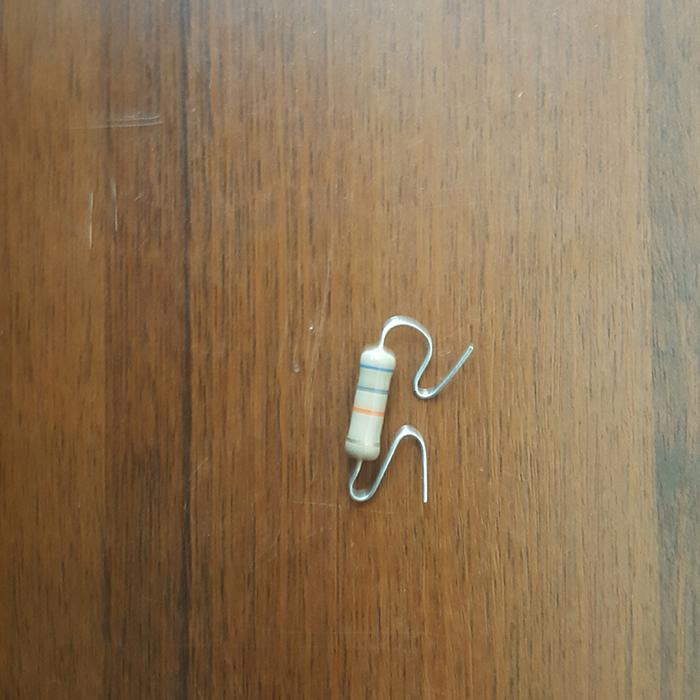resistor: (345, 347, 395, 460)
